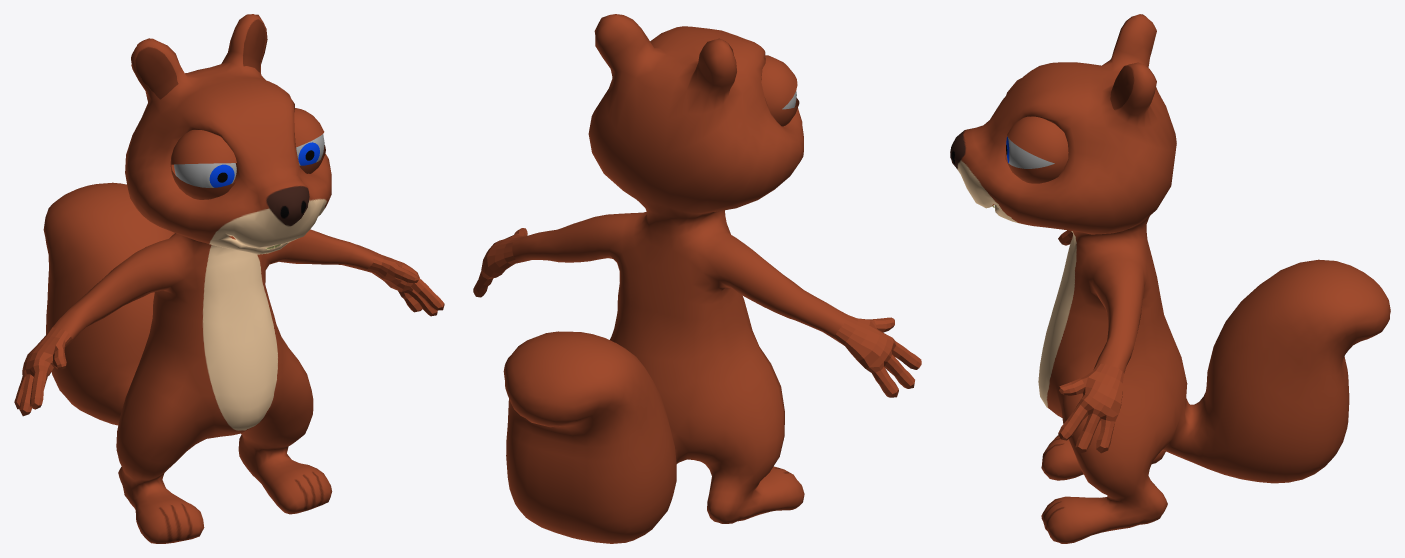
Rendered from Squirrel 0000000000001.obj.
3 views of the same model, side by side, from view 1: azimuth 30°, elevation 25°; view 2: azimuth 150°, elevation 25°; view 3: azimuth 270°, elevation 25° (orthographic). The views are drawn at different scales.
Visible parts, largest first — view 1: group1 Squirrel_0000000000001, group1 eyes_lid1:nurbsToPoly2, group1 eyes_lid1:blue_eyes:pSphere2, group1 eyes_lid1:nurbsToPoly1, group1 eyes_lid1:blue_eyes:pSphere1; view 2: group1 Squirrel_0000000000001, group1 eyes_lid1:nurbsToPoly2; view 3: group1 Squirrel_0000000000001, group1 eyes_lid1:nurbsToPoly1, group1 eyes_lid1:blue_eyes:pSphere1.
Boxes of the visible parts, box(x1,y1,x2,y2) form: group1 Squirrel_0000000000001: box(14, 14, 444, 543); group1 eyes_lid1:nurbsToPoly2: box(170, 130, 236, 199); group1 eyes_lid1:blue_eyes:pSphere2: box(174, 163, 236, 187); group1 eyes_lid1:nurbsToPoly1: box(294, 108, 325, 173); group1 eyes_lid1:blue_eyes:pSphere1: box(296, 134, 324, 165); group1 Squirrel_0000000000001: box(473, 14, 921, 543); group1 eyes_lid1:nurbsToPoly2: box(761, 55, 799, 126); group1 Squirrel_0000000000001: box(950, 14, 1390, 543); group1 eyes_lid1:nurbsToPoly1: box(1005, 116, 1068, 183); group1 eyes_lid1:blue_eyes:pSphere1: box(1006, 136, 1054, 168).
Bounding box in the file's own units: 15.49 × 16.63 × 14.29.
Materials: 6 (1 with a texture image).
